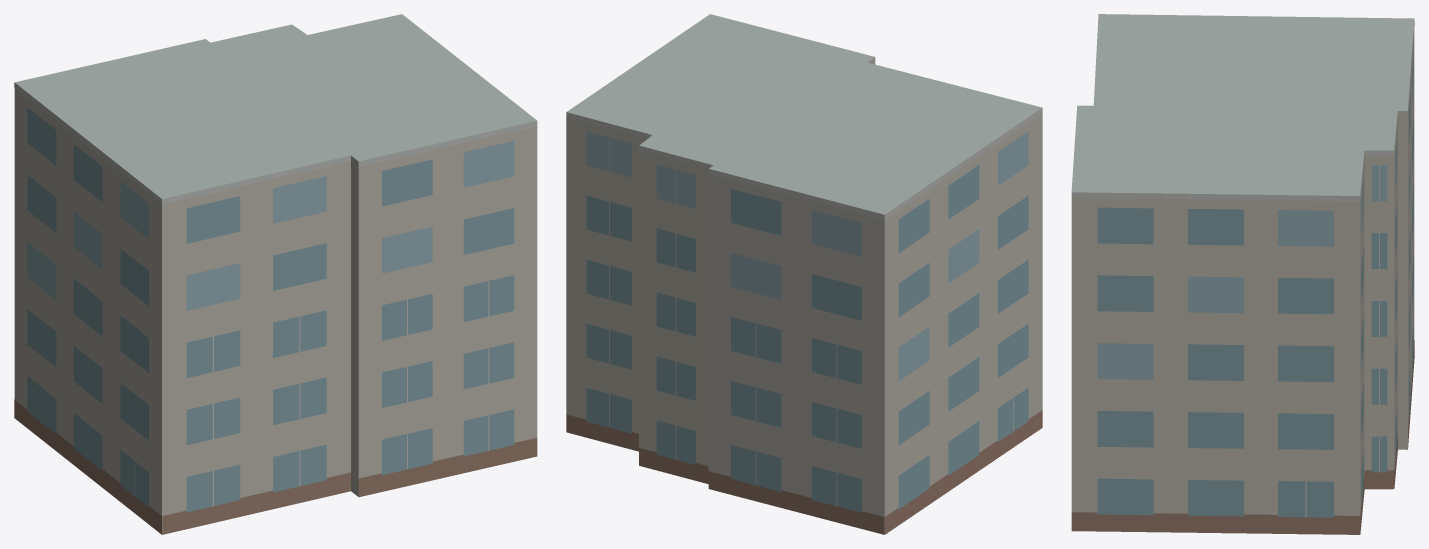
The model's file is survey-upis-32690027.glb.
3 renders of one model, left to right at view 1: azimuth 30°, elevation 25°; view 2: azimuth 150°, elevation 25°; view 3: azimuth 270°, elevation 25°, orthographic. The views are drawn at different scales.
Parts seen in each view (by area): view 1: survey-upis-32690027.tmp; view 2: survey-upis-32690027.tmp; view 3: survey-upis-32690027.tmp.
Boxes of the visible parts, x1,y1,x2,y2 form: survey-upis-32690027.tmp: (14, 14, 537, 534); survey-upis-32690027.tmp: (566, 14, 1042, 534); survey-upis-32690027.tmp: (1071, 14, 1414, 534).
Size of the model in its own units: 16.78 by 14.55 by 13.36.
